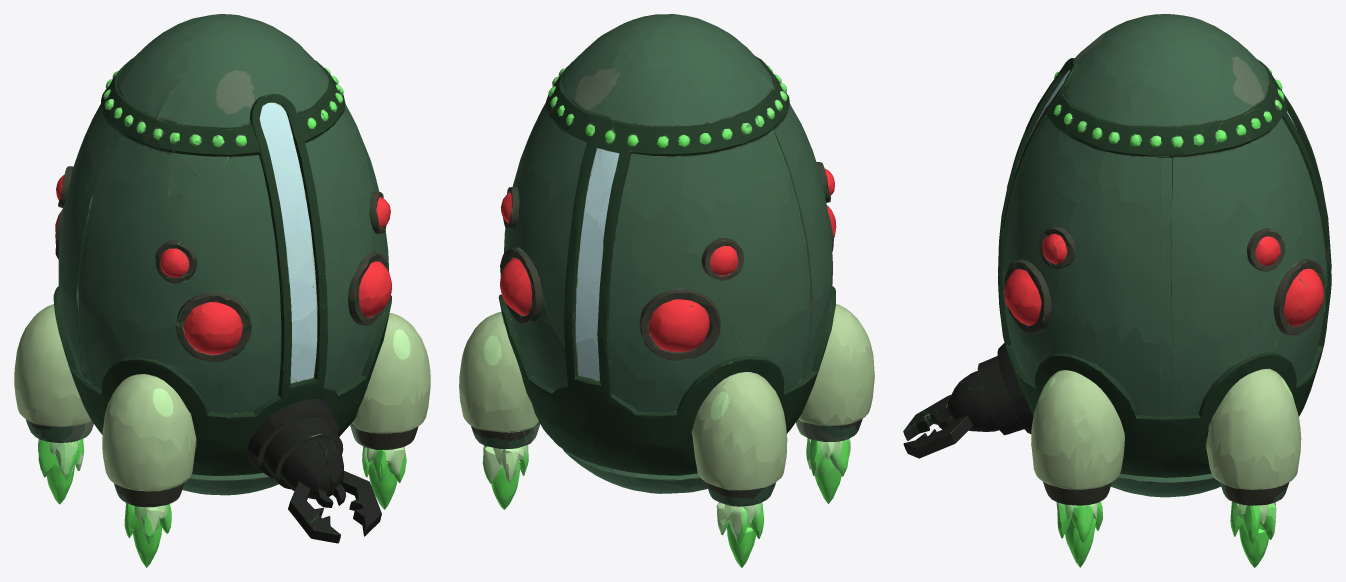
The model's file is fedship.glb.
The picture shows the model from 3 angles, left to right: view 1: azimuth 30°, elevation 25°; view 2: azimuth 150°, elevation 25°; view 3: azimuth 270°, elevation 25°; orthographic projection.
Size of the model in its own units: 1.3 by 1.9 by 1.52.
1 material, 1 textured.
